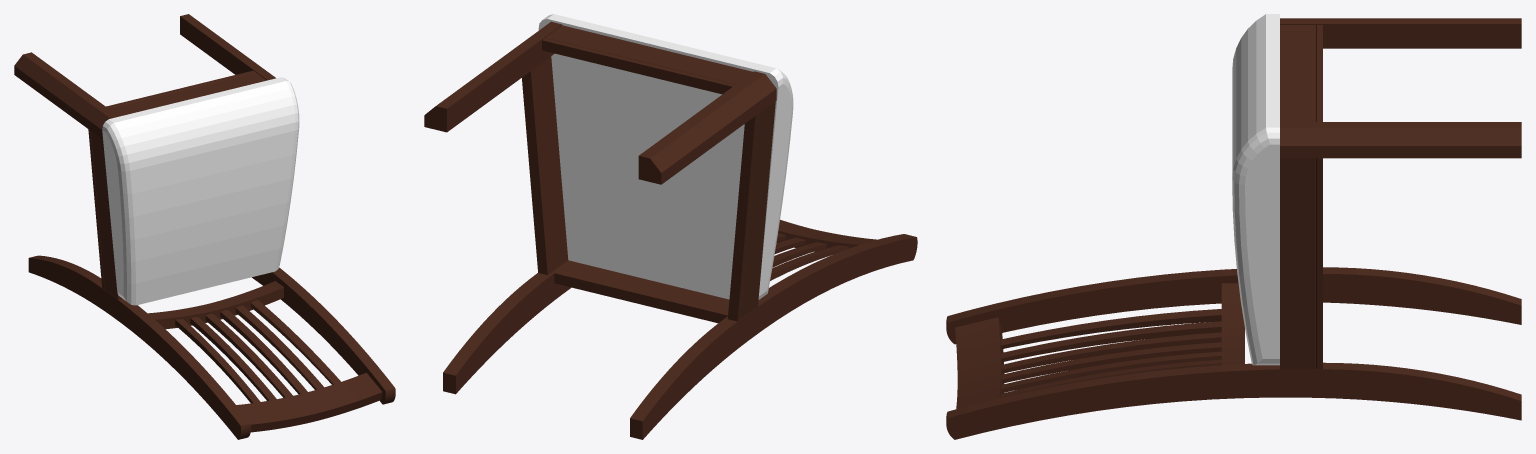
3 views of the same model, side by side, from view 1: azimuth 30°, elevation 25°; view 2: azimuth 150°, elevation 25°; view 3: azimuth 270°, elevation 25° (orthographic). The views are drawn at different scales.
Visible parts, largest first — view 1: dining chair; view 2: dining chair; view 3: dining chair.
Boxes of the visible parts, x1,y1,x2,y2 form: dining chair: [14, 14, 395, 439]; dining chair: [424, 14, 917, 439]; dining chair: [946, 14, 1521, 439].
Bounding box in the file's own units: 18.6 × 22.77 × 36.91.
